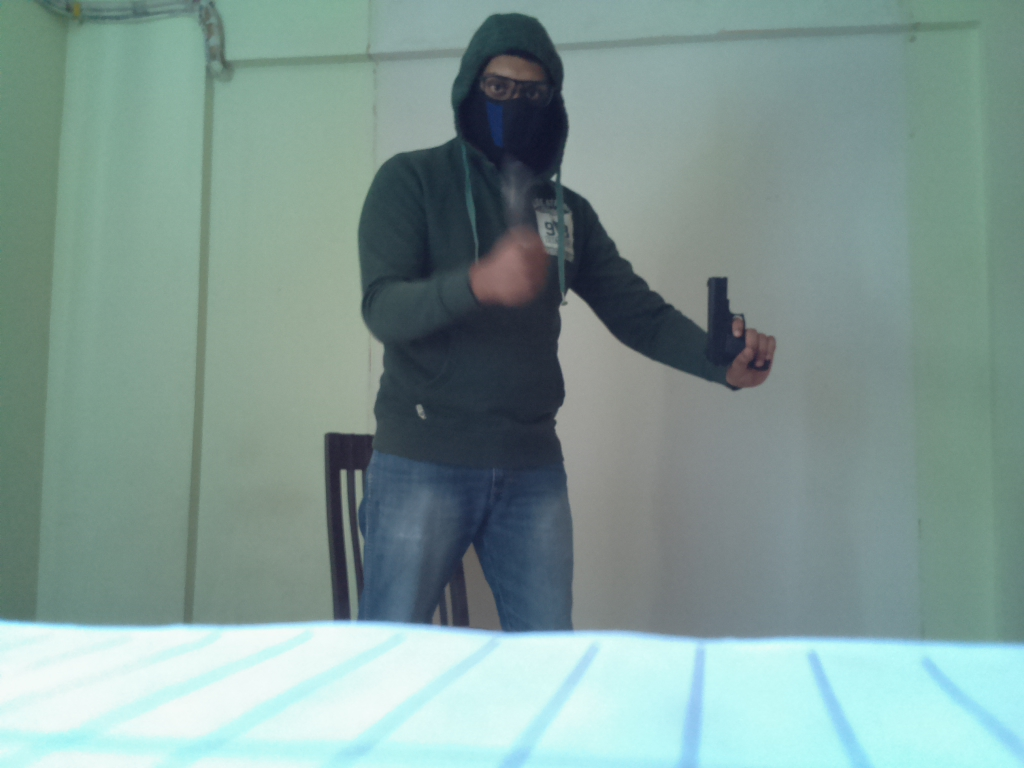gun: (697, 269, 772, 373)
